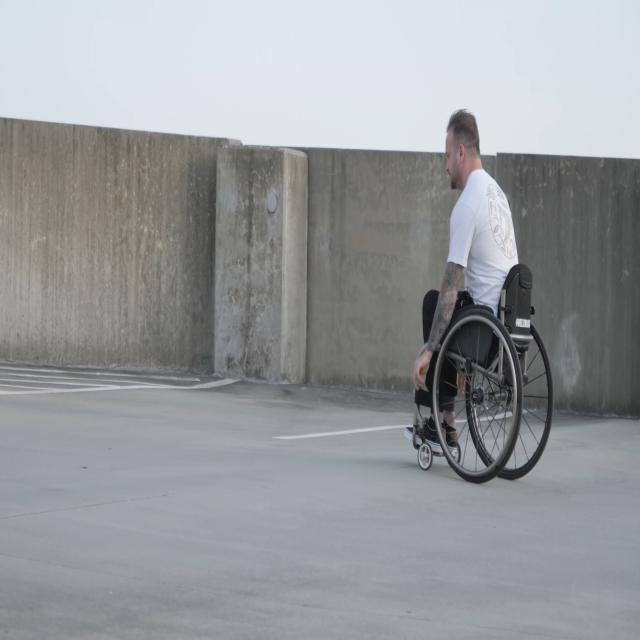wheelchairs: (412, 262, 555, 488)
